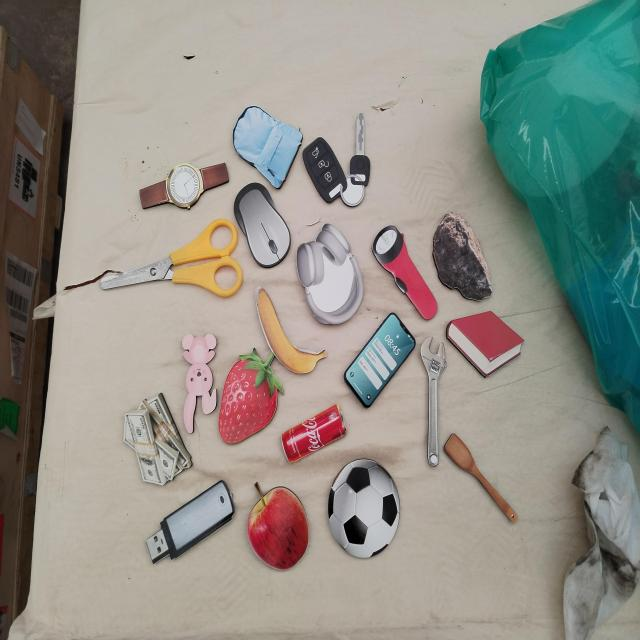Other Objects: (313, 441, 415, 577), (99, 218, 242, 298), (299, 112, 384, 224), (141, 476, 240, 572), (367, 217, 449, 326), (225, 91, 305, 191), (341, 309, 418, 411), (442, 431, 525, 525), (225, 173, 298, 278), (295, 222, 364, 326), (123, 391, 193, 486), (255, 286, 327, 375), (247, 481, 309, 571), (432, 211, 492, 301), (280, 402, 347, 464), (139, 163, 229, 209), (416, 337, 447, 467), (180, 332, 218, 434)
